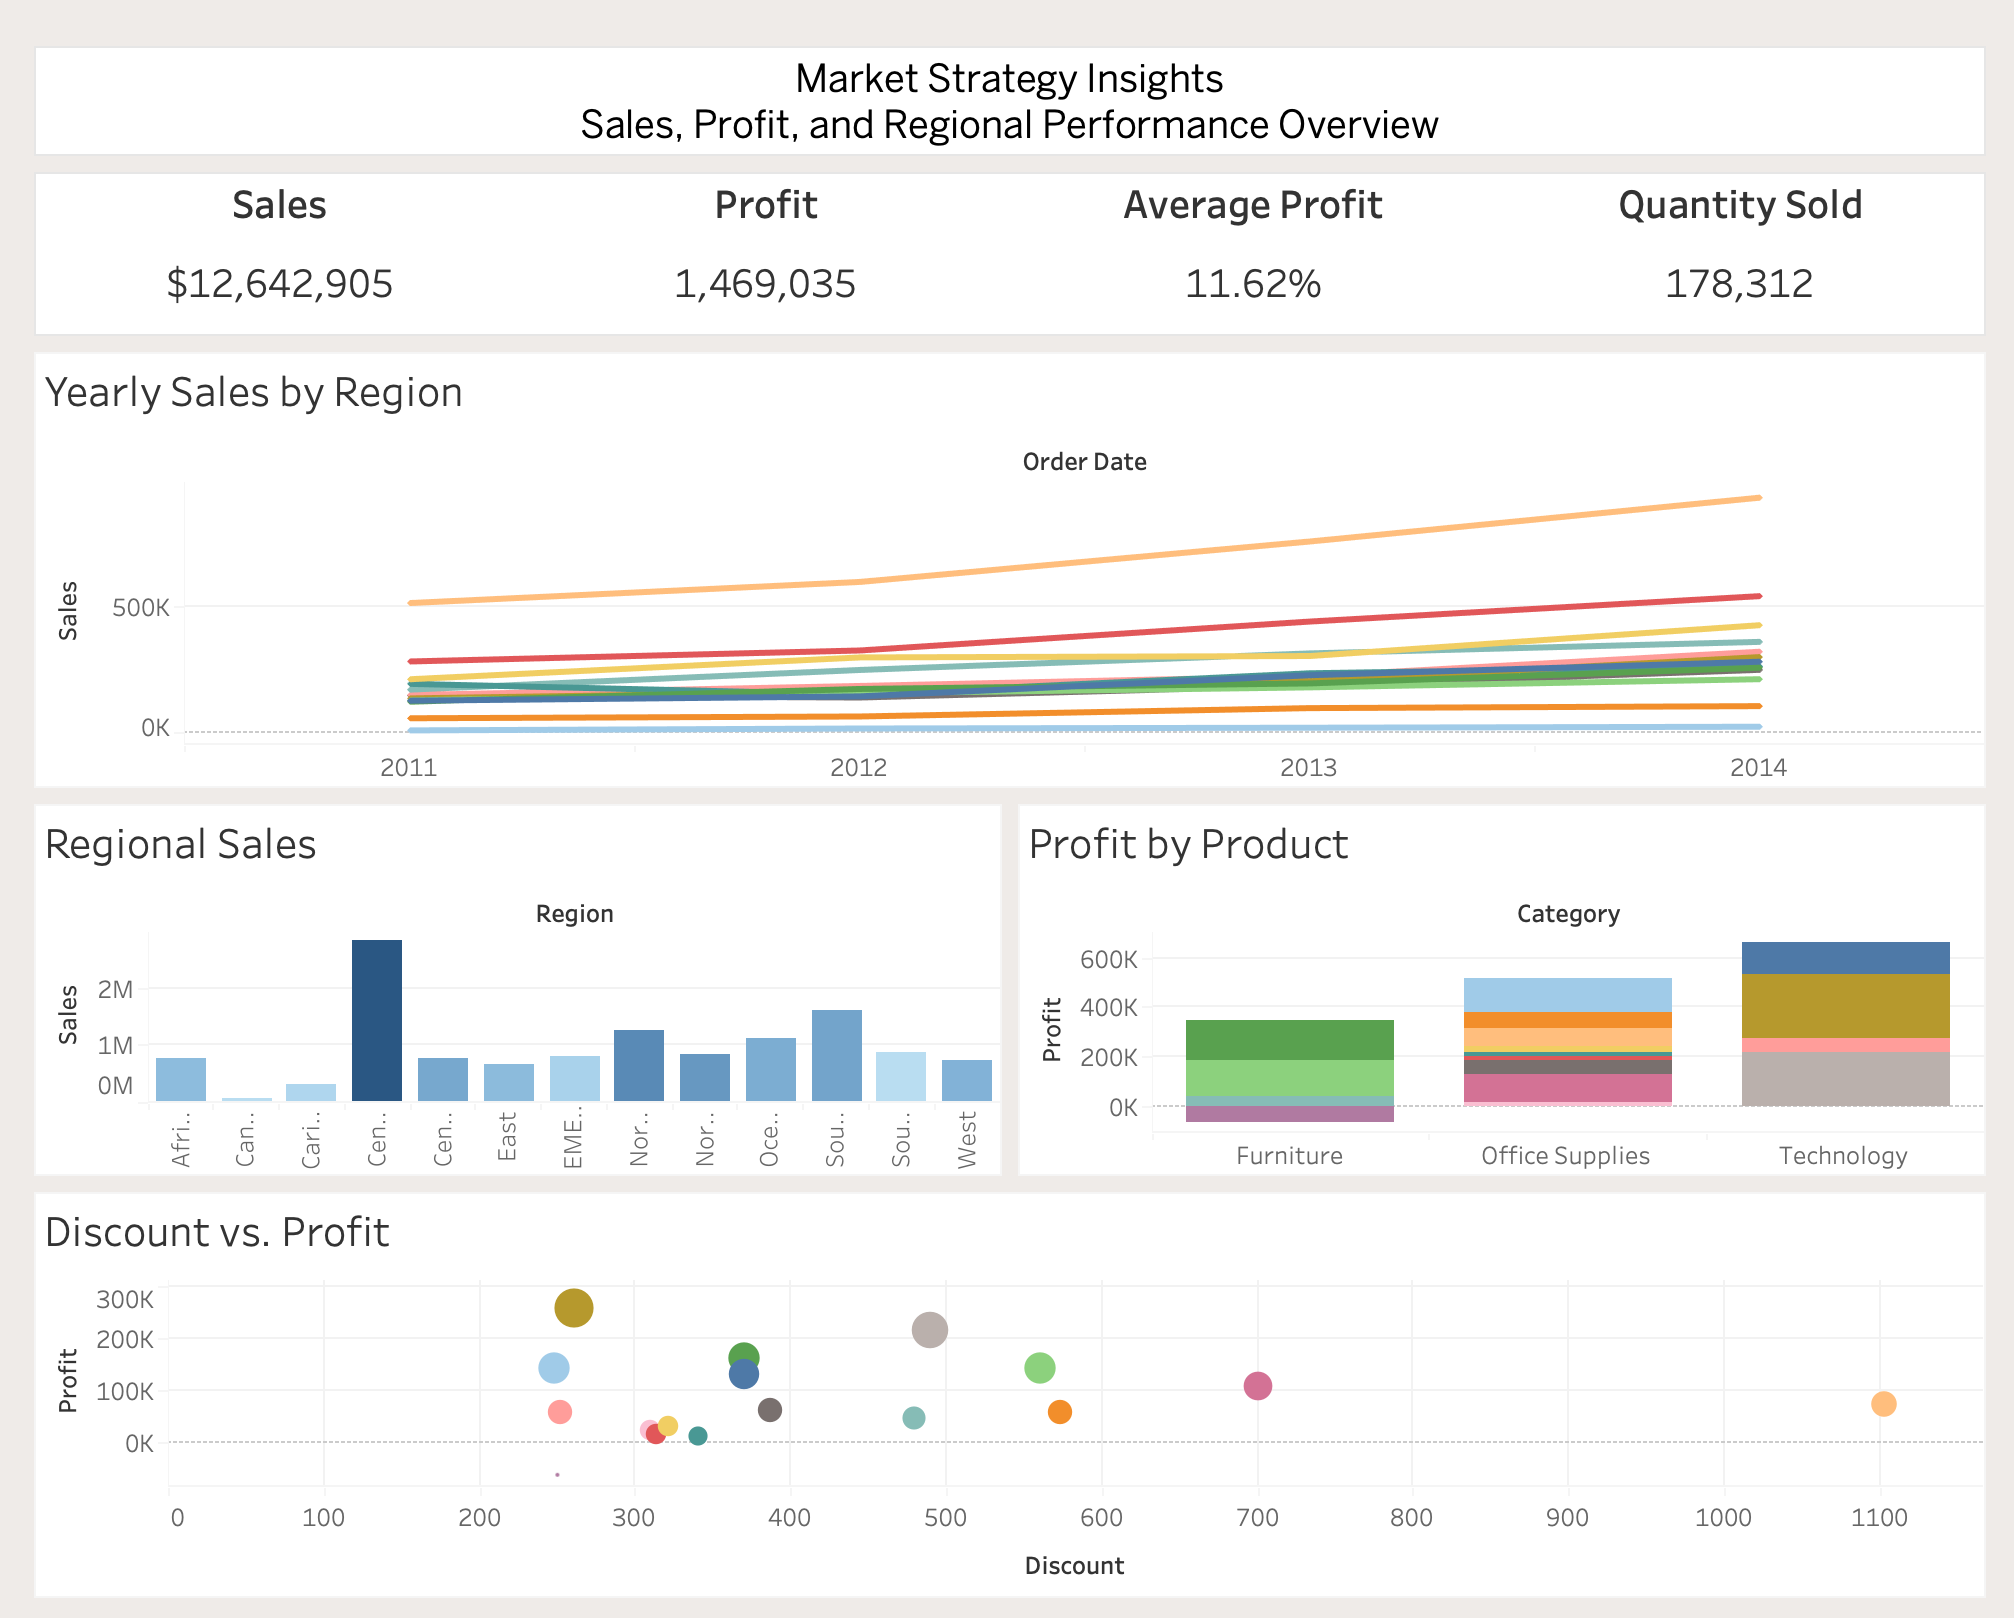

The dashboard page shown, as its layout file describes it:
{"tool":"tableau","page":{"name":"Market Strategy","canvas":[1000,800],"ordinal":0},"visuals":[{"type":"text","box":[8,8,984,63]},{"type":"worksheet","title":"KPIs","mark":"Automatic","box":[8,71,984,90]},{"type":"worksheet","title":"Sale Trends","mark":"Automatic","rows":["sales"],"cols":["order_date"],"box":[8,161,984,226]},{"type":"worksheet","title":"Regional Sales","mark":"Automatic","rows":["sales"],"cols":["region"],"box":[8,387,492,194]},{"type":"worksheet","title":"Profit by Product","mark":"Automatic","rows":["profit"],"cols":["category"],"box":[500,387,492,194]},{"type":"worksheet","title":"Discount vs. Profit","mark":"Automatic","rows":["profit"],"cols":["discount"],"box":[8,581,984,211]}]}

Visuals, with their boxes in screenshot pixels (x1, y1, x2, y2), scaled from the page's 1000x800 canvas onto the 2014x1618 screenshot:
text: (x1=16, y1=16, x2=1998, y2=144)
"KPIs" worksheet: (x1=16, y1=144, x2=1998, y2=326)
"Sale Trends" worksheet: (x1=16, y1=326, x2=1998, y2=783)
"Regional Sales" worksheet: (x1=16, y1=783, x2=1007, y2=1175)
"Profit by Product" worksheet: (x1=1007, y1=783, x2=1998, y2=1175)
"Discount vs. Profit" worksheet: (x1=16, y1=1175, x2=1998, y2=1602)
